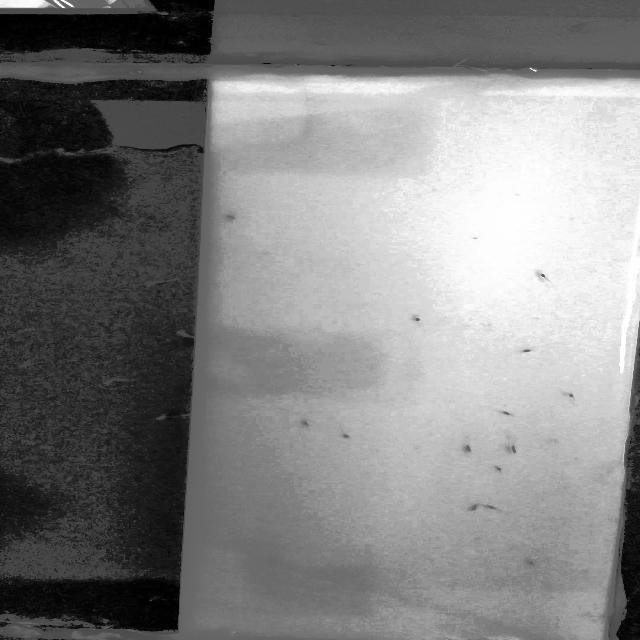shrimp: (486, 459, 512, 476), (528, 269, 556, 284), (456, 440, 478, 455), (513, 345, 536, 358), (335, 430, 359, 442), (502, 443, 526, 455), (404, 315, 427, 326), (562, 390, 583, 402), (520, 557, 541, 569), (293, 418, 315, 429), (496, 409, 513, 421), (484, 503, 502, 514), (464, 504, 483, 513)
